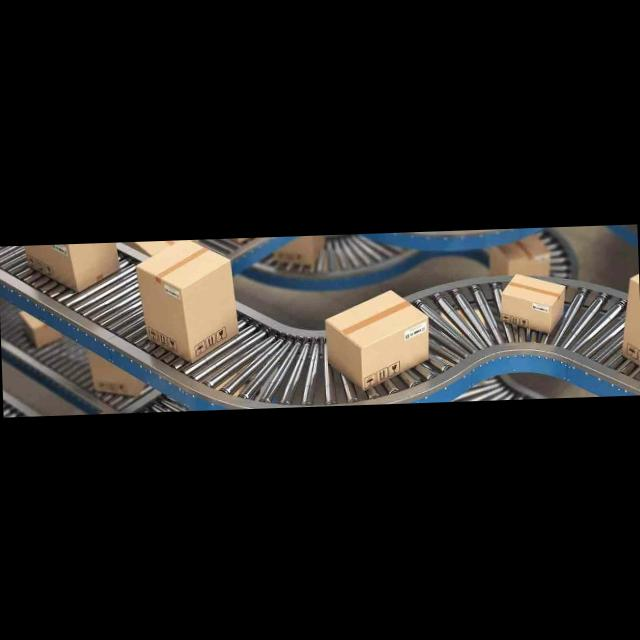box: (134, 237, 242, 362), (324, 288, 431, 390), (22, 241, 122, 294), (498, 272, 568, 336), (617, 252, 640, 385)
